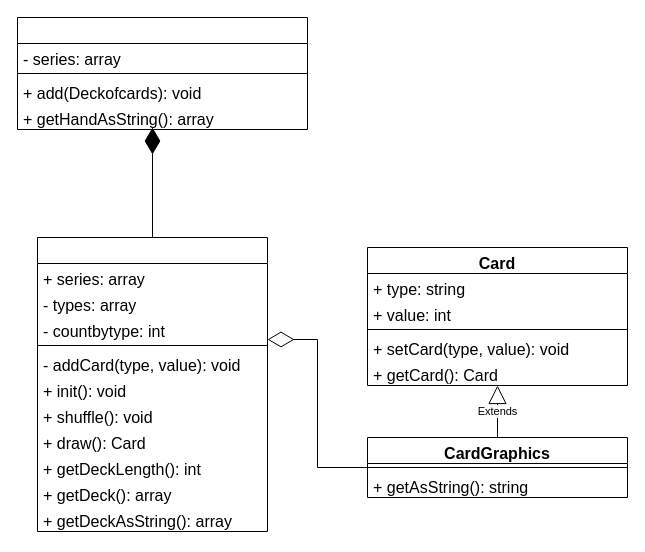
The diagram is 645 pixels wide and 552 high, and some of its shapes have lost their labels. Here are the shapes that lost their labels. From the top down, the box of each, then its label:
(16, 16, 308, 130): CardHand
(36, 236, 268, 532): DeckOfCards
